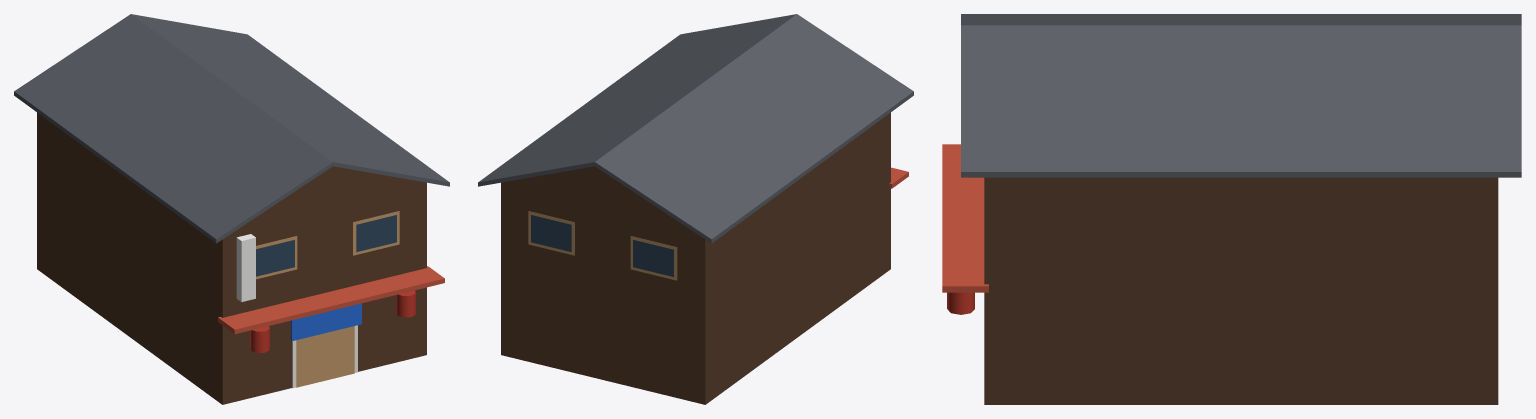
Rendered from izakaya.glb.
3 views of the same model, side by side, from view 1: azimuth 30°, elevation 25°; view 2: azimuth 150°, elevation 25°; view 3: azimuth 270°, elevation 25° (orthographic). The views are drawn at different scales.
Visible parts, largest first — view 1: izakaya; view 2: izakaya; view 3: izakaya.
Boxes of the visible parts, box(x1,y1,x2,y2) form: izakaya: box(14, 14, 449, 404); izakaya: box(478, 14, 913, 404); izakaya: box(942, 14, 1521, 404).
Bounding box in the file's own units: 8 × 7.34 × 12.4.
1 material, 1 textured.
